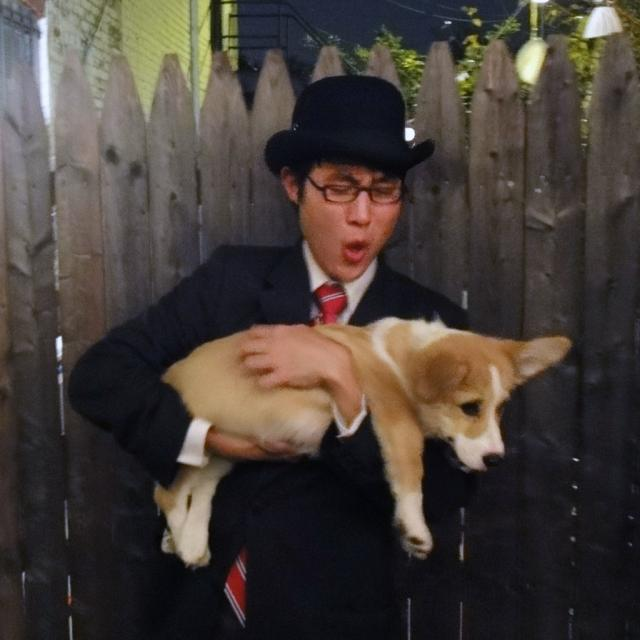Hat: (264, 74, 438, 180)
